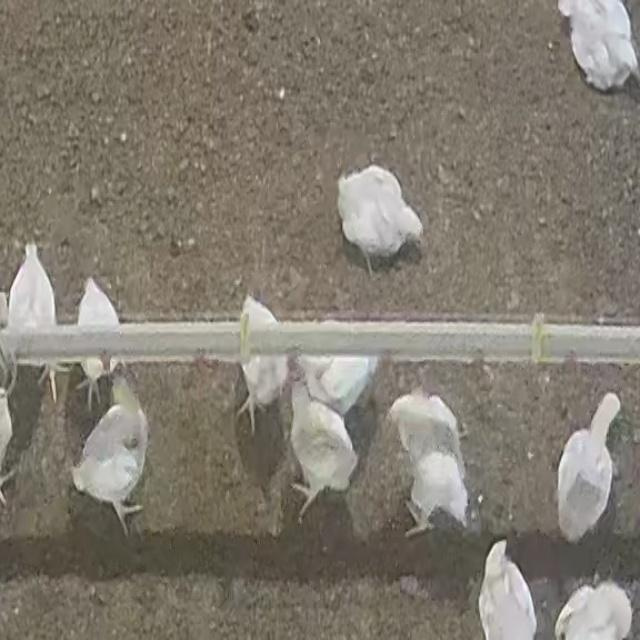chicken: (67, 374, 151, 539), (552, 388, 626, 550), (334, 161, 428, 273), (288, 380, 360, 520)
